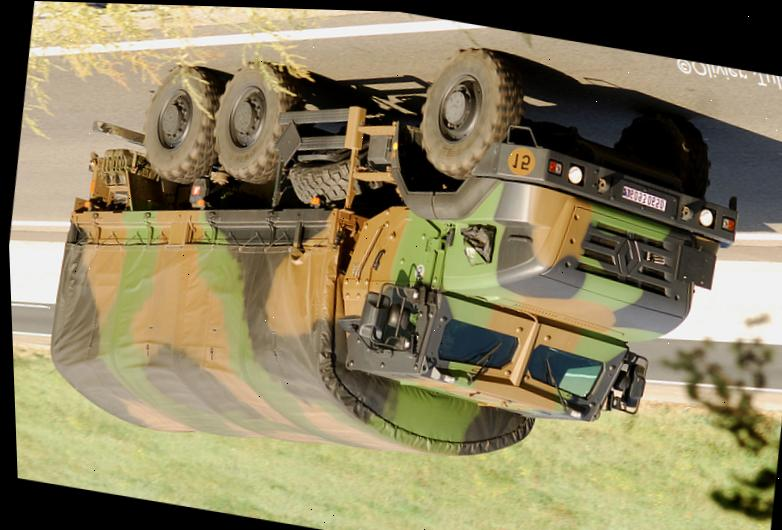truck: (16, 0, 774, 518)
